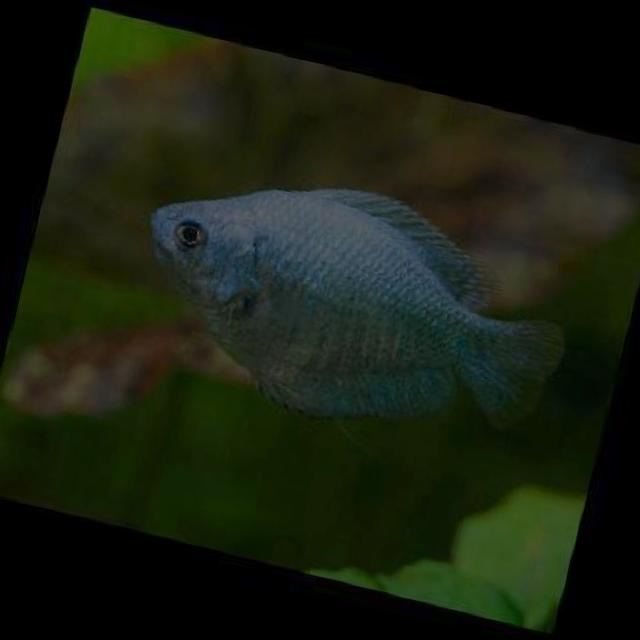Gourami: (115, 141, 586, 462)
